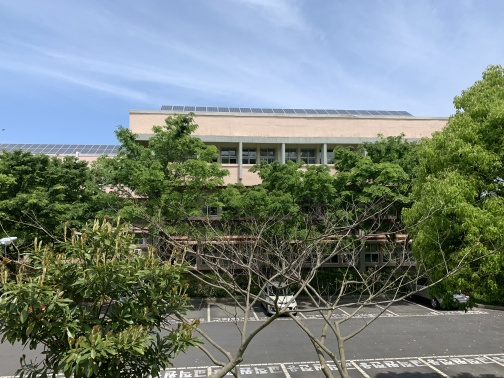College Of Education: (10, 99, 474, 313)
